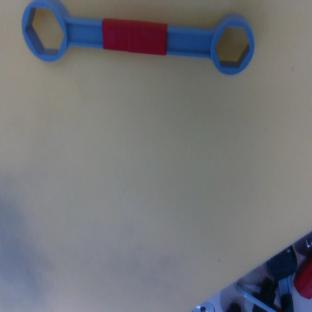part_1_good: (234, 275, 281, 312)
part_2_good: (294, 255, 312, 299)
part_3_bad: (267, 246, 297, 311)
